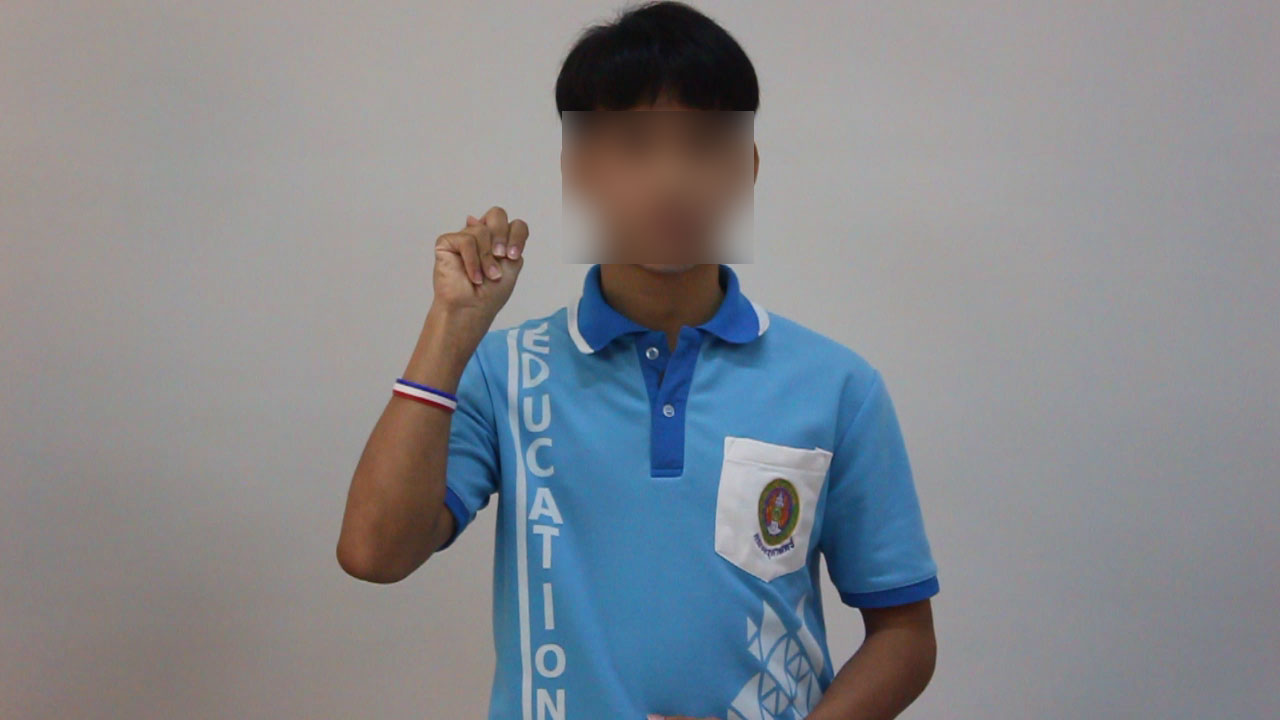nor: (412, 195, 546, 323)
